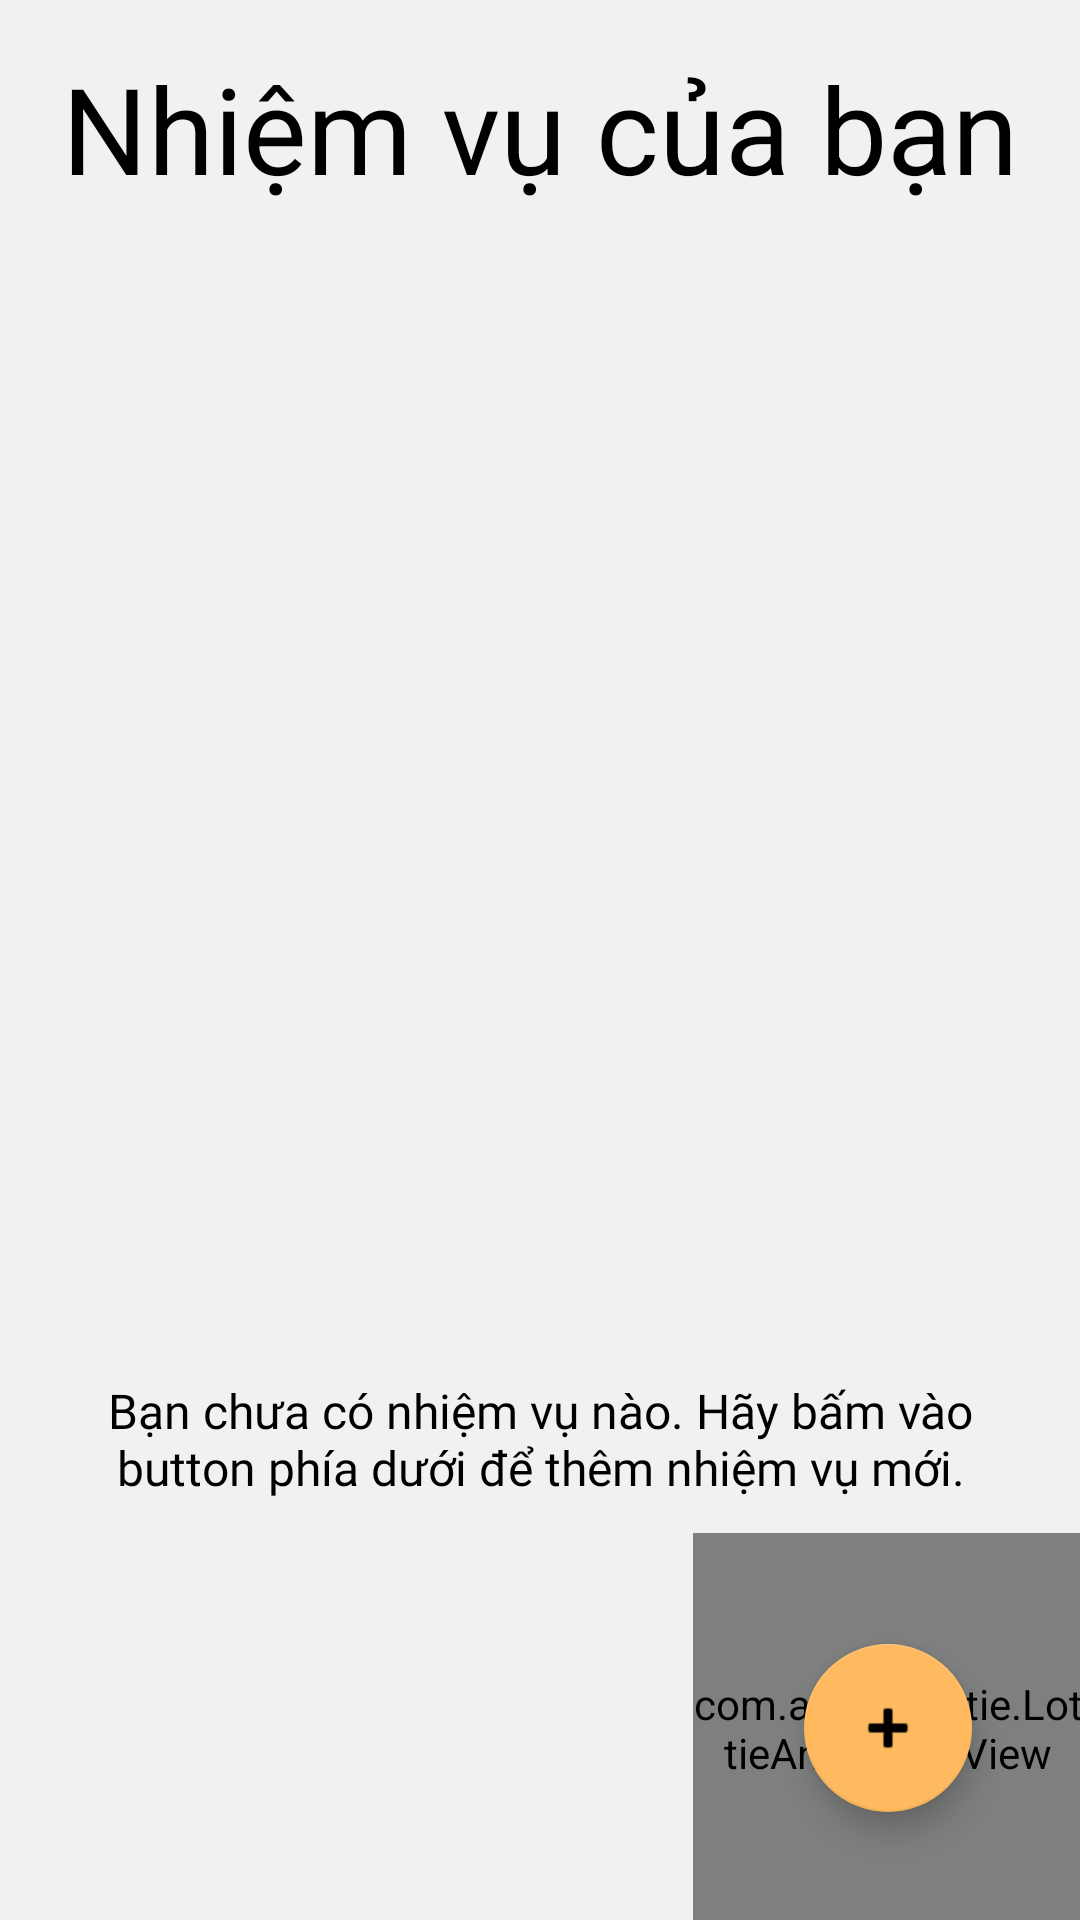

Icon click points for this 1080 x 1920 phone screenshot, format [x,y]:
add: [888,1728]
